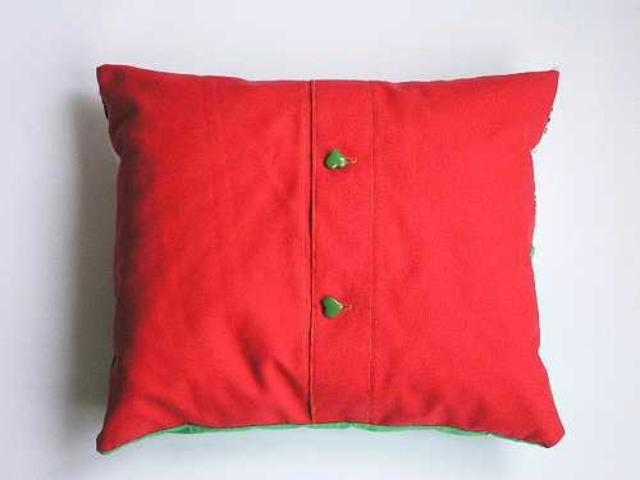pillow: (94, 62, 566, 454)
